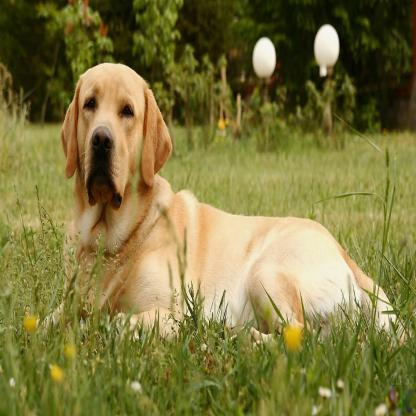Rotveler: (60, 57, 410, 351)
